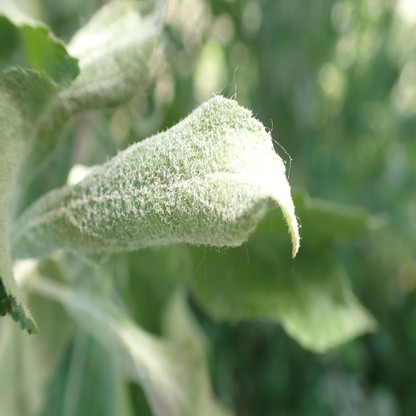powdery_mildew: (0, 94, 301, 257)
